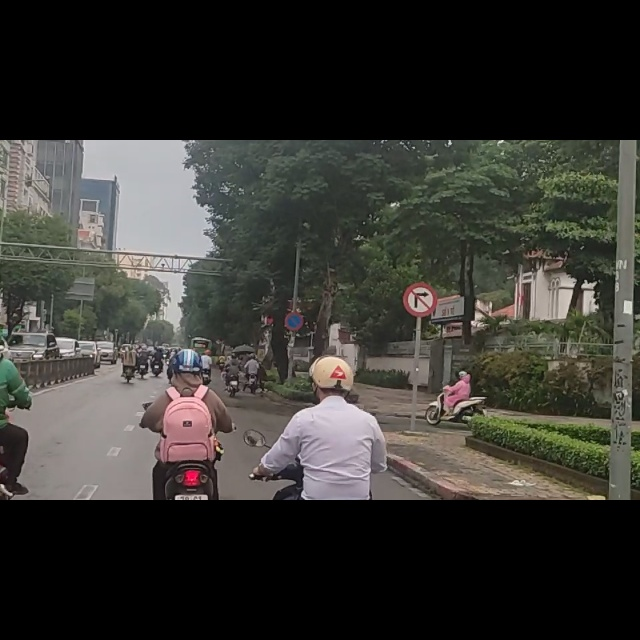bien_cam: (403, 252, 437, 315), (284, 306, 304, 339)
